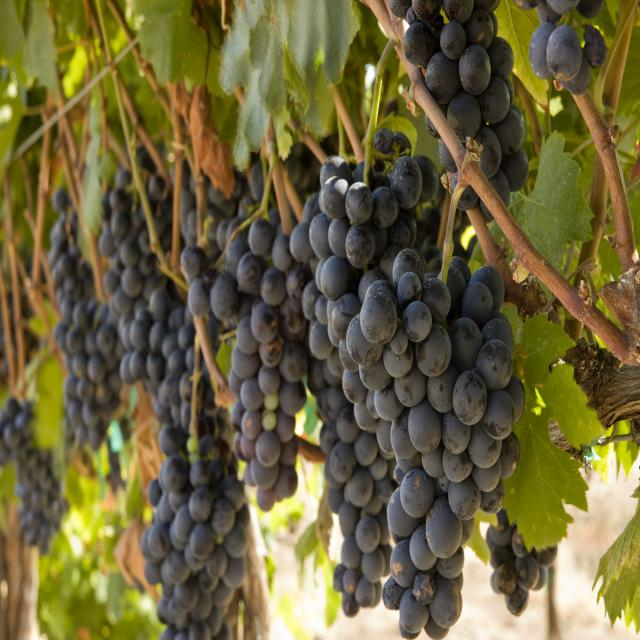grape: (195, 162, 544, 628), (22, 146, 260, 640), (346, 0, 614, 178)
